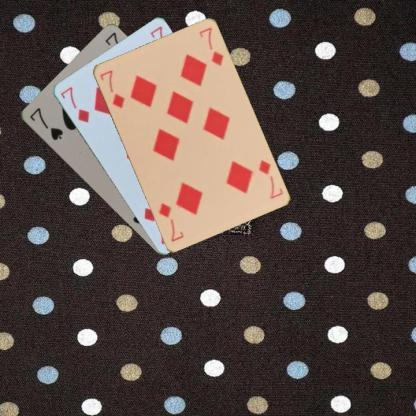7d: (58, 84, 90, 124), (97, 67, 126, 110), (256, 157, 284, 201)
7s: (26, 105, 64, 142)
